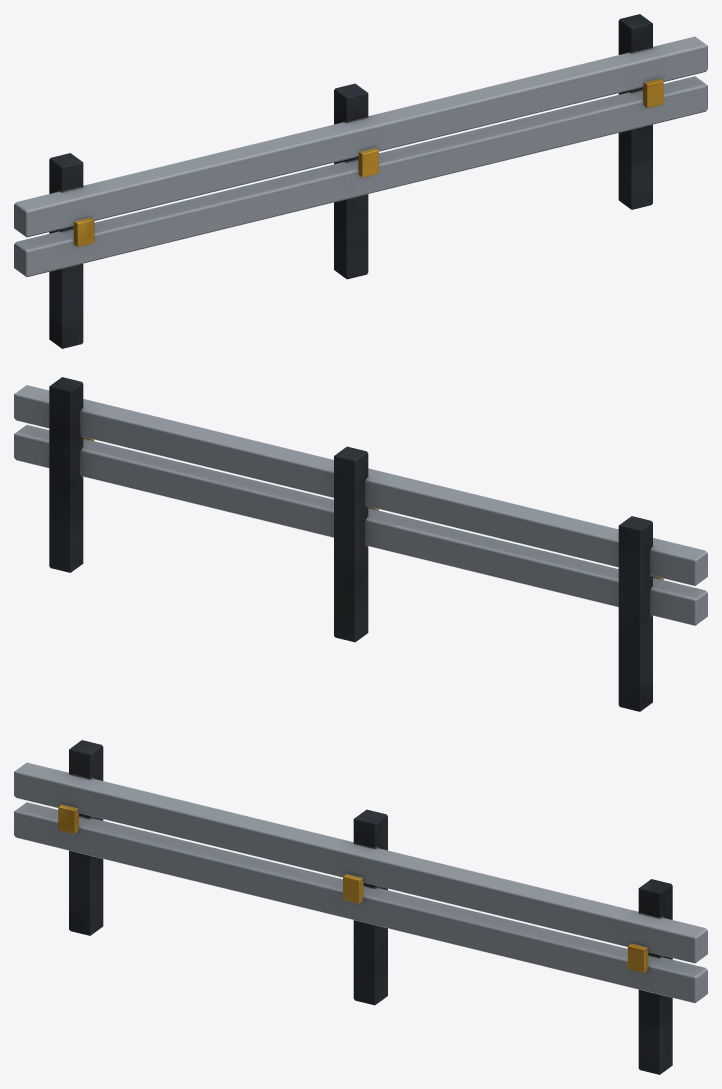
File: guardrail_steel.glb
3 renders of one model, top to bottom at view 1: azimuth 30°, elevation 25°; view 2: azimuth 150°, elevation 25°; view 3: azimuth 330°, elevation 25°, orthographic.
Parts seen in each view (by area): view 1: GuardrailSteel; view 2: GuardrailSteel; view 3: GuardrailSteel.
Boxes of the visible parts, left/top/right/bottom form: GuardrailSteel: left=14, top=14, right=707, bottom=348; GuardrailSteel: left=14, top=377, right=707, bottom=711; GuardrailSteel: left=14, top=740, right=707, bottom=1074.
Bounding box in the file's own units: 3.6 × 0.9199 × 0.2399.
Materials: 1 (1 with a texture image).
